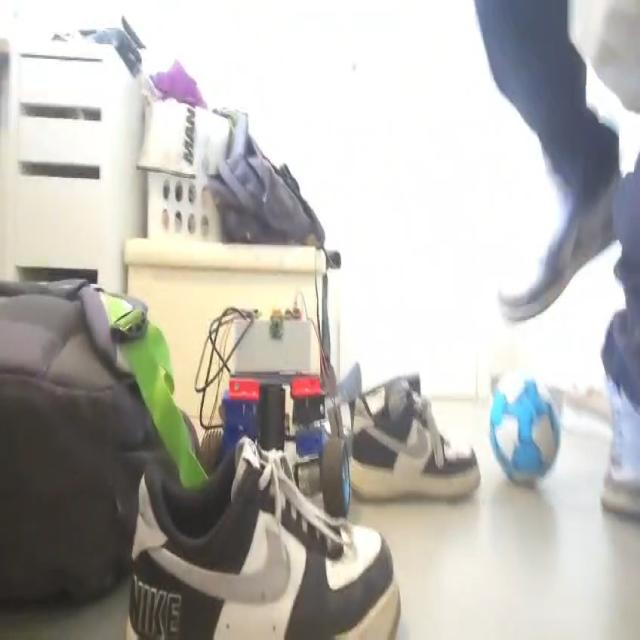Robot: (198, 305, 350, 516)
